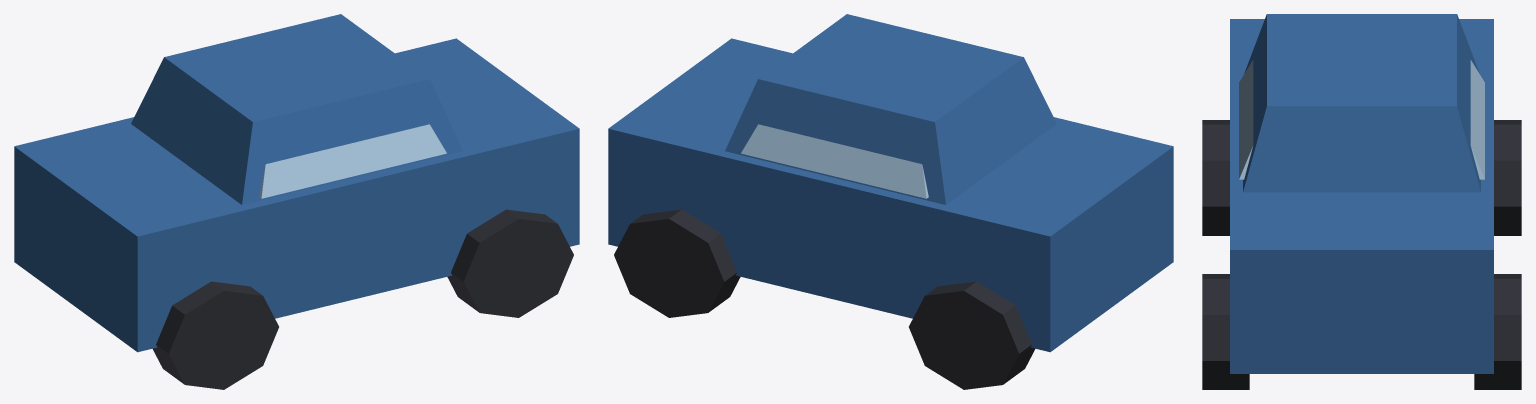
File: env_r7_crushed_car.glb
The picture shows the model from 3 angles, left to right: view 1: azimuth 30°, elevation 25°; view 2: azimuth 150°, elevation 25°; view 3: azimuth 270°, elevation 25°; orthographic projection. The views are drawn at different scales.
Parts seen in each view (by area): view 1: env_r7_crushed_car; view 2: env_r7_crushed_car; view 3: env_r7_crushed_car.
Boxes of the visible parts, x1,y1,x2,y2 form: env_r7_crushed_car: [14, 14, 579, 389]; env_r7_crushed_car: [608, 14, 1173, 389]; env_r7_crushed_car: [1202, 14, 1521, 389].
Size of the model in its own units: 2.4 by 1.2 by 1.4.
1 material, 1 textured.
